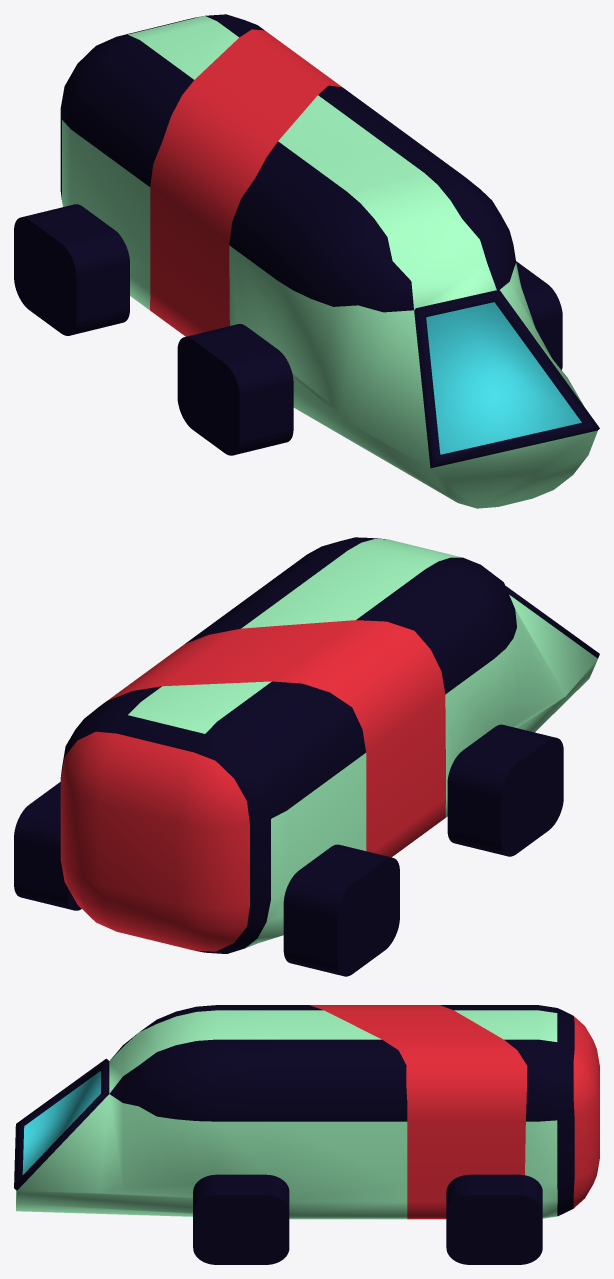
File: Dron1 1.fbx
The picture shows the model from 3 angles, top to bottom: view 1: azimuth 30°, elevation 25°; view 2: azimuth 150°, elevation 25°; view 3: azimuth 270°, elevation 25°; orthographic projection. The views are drawn at different scales.
Parts seen in each view (by area): view 1: Cube; view 2: Cube; view 3: Cube.
Part boxes in pixels (x1=…): Cube: x1=14, y1=14, x2=599, y2=508; Cube: x1=14, y1=537, x2=599, y2=976; Cube: x1=14, y1=1005, x2=599, y2=1264.
Size of the model in its own units: 300 by 205 by 608.
